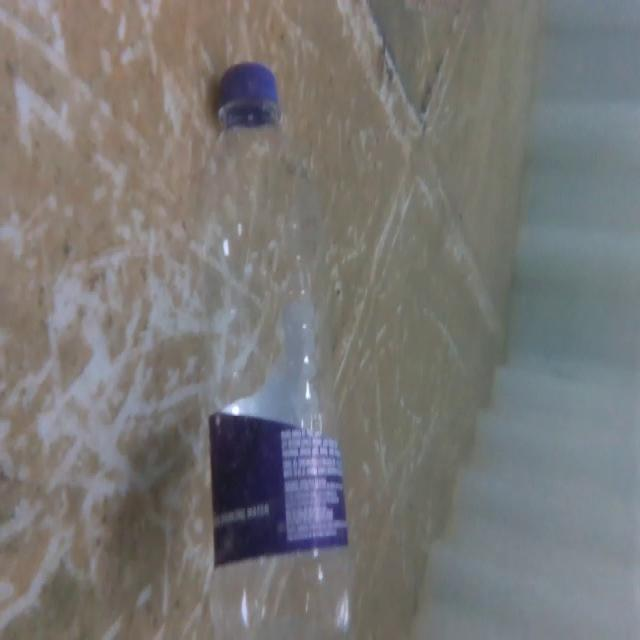plastic bottle: (196, 57, 359, 640)
